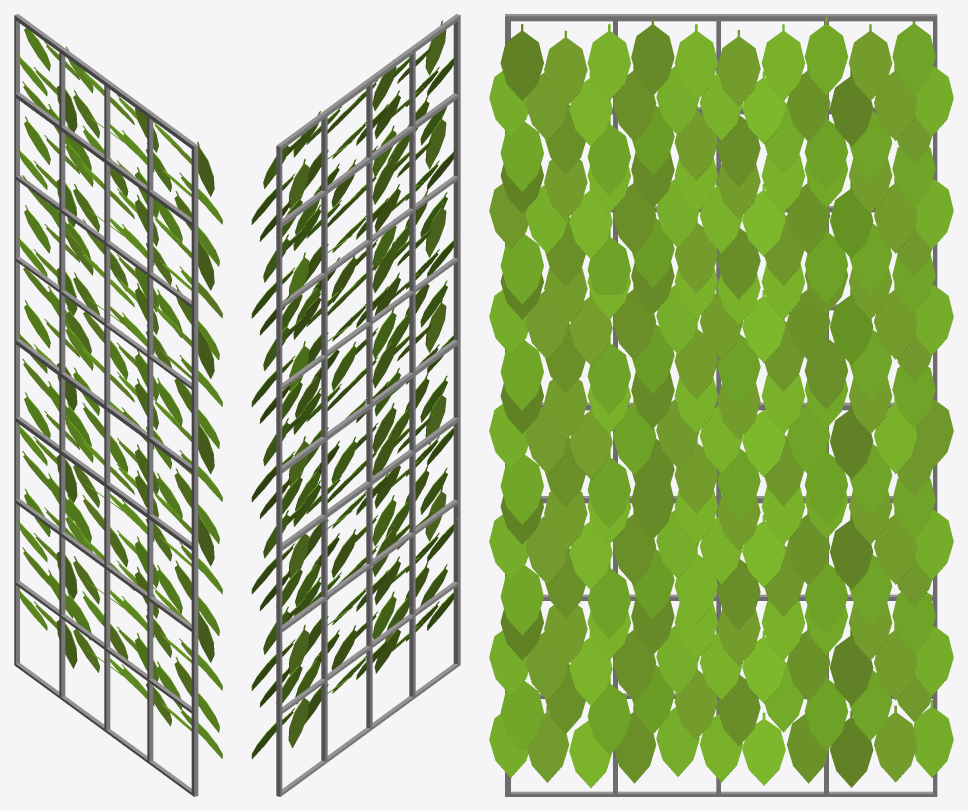
Rendered from Wall Plant.fbx.
3 renders of one model, left to right at view 1: azimuth 30°, elevation 25°; view 2: azimuth 150°, elevation 25°; view 3: azimuth 270°, elevation 25°, orthographic. The views are drawn at different scales.
Visible parts, largest first — view 1: Grid, Plane.014, Plane.008, Plane.017, Plane.011, Plane.003, Plane.006, Plane.009, Plane.016, Plane.018, Plane.013, Plane.001 (+8 smaller); view 2: Grid, Plane.014, Plane.008, Plane.017, Plane.011, Plane.003, Plane.009, Plane.018, Plane.006, Plane.016, Plane.001, Plane.005 (+8 smaller); view 3: Leaves, Plane.018, Plane.007, Plane.001, Plane.013, Plane.004, Plane.016, Plane.010, Plane.014, Plane.017, Plane.008, Plane.011 (+8 smaller).
Boxes of the visible parts, bbox=[...] form: Grid: bbox=[14, 14, 198, 796]; Plane.014: bbox=[22, 451, 219, 635]; Plane.008: bbox=[22, 263, 219, 448]; Plane.017: bbox=[22, 547, 219, 732]; Plane.011: bbox=[22, 358, 219, 543]; Plane.003: bbox=[24, 116, 214, 290]; Plane.006: bbox=[24, 205, 214, 378]; Plane.009: bbox=[24, 300, 214, 473]; Plane.016: bbox=[16, 519, 222, 690]; Plane.018: bbox=[16, 587, 222, 758]; Plane.013: bbox=[16, 422, 222, 594]; Plane.001: bbox=[16, 53, 222, 224]; Grid: bbox=[276, 14, 460, 796]; Plane.014: bbox=[259, 466, 447, 610]; Plane.008: bbox=[259, 280, 447, 423]; Plane.017: bbox=[259, 562, 447, 707]; Plane.011: bbox=[259, 373, 447, 518]; Plane.003: bbox=[263, 114, 446, 282]; Plane.009: bbox=[263, 298, 446, 466]; Plane.018: bbox=[251, 587, 457, 758]; Plane.006: bbox=[263, 202, 446, 370]; Plane.016: bbox=[251, 519, 457, 690]; Plane.001: bbox=[251, 53, 457, 224]; Plane.005: bbox=[259, 190, 447, 335]; Leaves: bbox=[500, 17, 935, 107]; Plane.018: bbox=[489, 700, 953, 787]; Plane.007: bbox=[489, 283, 953, 365]; Plane.001: bbox=[489, 64, 953, 146]; Plane.013: bbox=[489, 508, 953, 589]; Plane.004: bbox=[489, 177, 953, 258]; Plane.016: bbox=[489, 624, 953, 705]; Plane.010: bbox=[489, 397, 953, 479]; Plane.014: bbox=[500, 544, 931, 639]; Plane.017: bbox=[500, 659, 931, 755]; Plane.008: bbox=[500, 319, 931, 414]; Plane.011: bbox=[500, 433, 931, 528].
Size of the model in its own units: 46.06 by 656 by 353.
